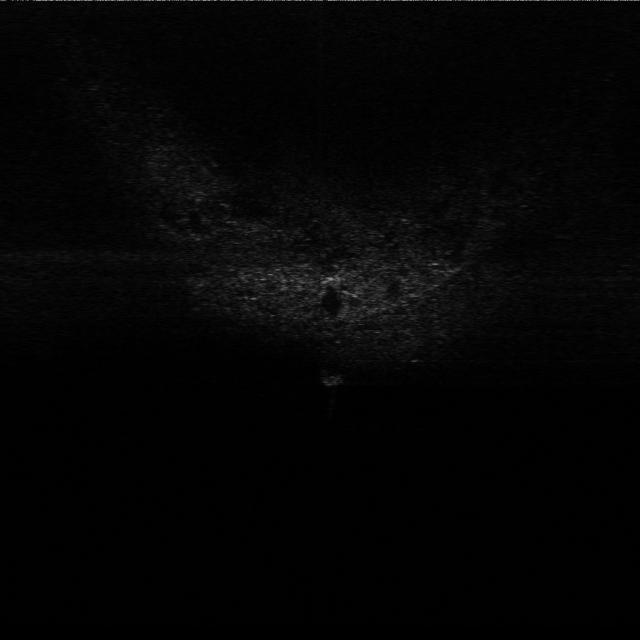cube: (320, 370, 350, 390)
